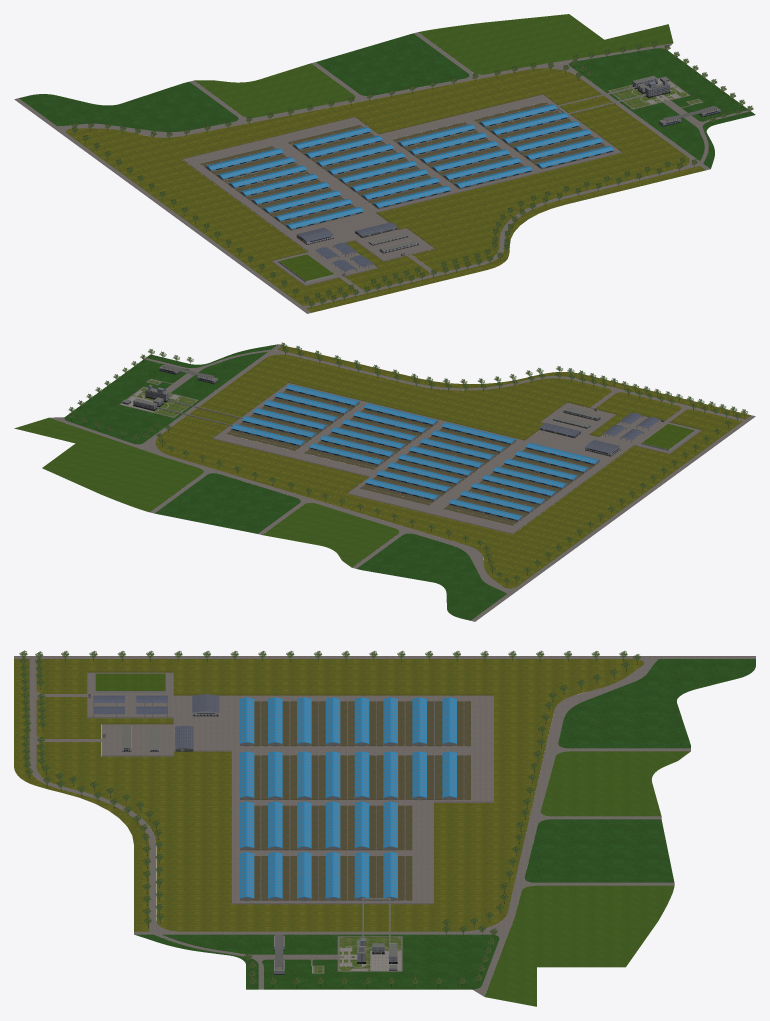
3 views of the same model, one above another, from view 1: azimuth 30°, elevation 25°; view 2: azimuth 150°, elevation 25°; view 3: azimuth 270°, elevation 25° (orthographic). The views are drawn at different scales.
Parts seen in each view (by area): view 1: Rectangle133, DaoLu_2, Line022, ??002, ?? ?1, ??003, Line023, ???1, WeiQiang_3, Rectangle121, ?_1, ????4?6 (+27 smaller); view 2: Rectangle133, DaoLu_2, Line022, ??002, ?? ?1, ??003, Line023, ???1, WeiQiang_3, ?_1, Rectangle121, ????4?15 (+27 smaller); view 3: Rectangle133, DaoLu_2, Line022, ?? ?1, ??002, ??003, Line023, ???1, WeiQiang_3, ?_1, Rectangle121, ??_1 (+29 smaller).
Boxes of the visible parts, bbox=[...] form: Rectangle133: bbox=[66, 68, 705, 312]; DaoLu_2: bbox=[14, 32, 699, 313]; Line022: bbox=[194, 14, 673, 117]; ??002: bbox=[19, 33, 469, 131]; ?? ?1: bbox=[200, 102, 605, 226]; ??003: bbox=[569, 48, 755, 168]; Line023: bbox=[558, 43, 749, 170]; ???1: bbox=[278, 254, 334, 282]; WeiQiang_3: bbox=[182, 94, 622, 285]; Rectangle121: bbox=[610, 86, 701, 108]; ?_1: bbox=[315, 243, 374, 272]; ????4?6: bbox=[479, 104, 557, 127]; Rectangle133: bbox=[155, 346, 750, 588]; DaoLu_2: bbox=[141, 349, 755, 621]; Line022: bbox=[14, 417, 399, 567]; ??002: bbox=[154, 473, 506, 620]; ?? ?1: bbox=[226, 390, 594, 525]; ??003: bbox=[64, 344, 277, 444]; Line023: bbox=[49, 344, 281, 448]; ???1: bbox=[641, 423, 695, 450]; WeiQiang_3: bbox=[212, 382, 701, 533]; ?_1: bbox=[603, 413, 659, 442]; Rectangle121: bbox=[133, 380, 195, 416]; ????4?15: bbox=[420, 438, 494, 460]; Rectangle133: bbox=[14, 659, 643, 931]; DaoLu_2: bbox=[14, 656, 755, 931]; Line022: bbox=[485, 751, 690, 1006]; ?? ?1: bbox=[254, 701, 470, 900]; ??002: bbox=[524, 659, 755, 882]; ??003: bbox=[135, 934, 499, 989]; Line023: bbox=[134, 931, 508, 996]; ???1: bbox=[95, 673, 165, 692]; WeiQiang_3: bbox=[87, 672, 493, 903]; ?_1: bbox=[93, 695, 167, 716]; Rectangle121: bbox=[314, 937, 401, 972]; ??_1: bbox=[339, 945, 401, 970].
Size of the model in its own units: 1419 by 28.32 by 1269.
55 materials, 55 textured.
